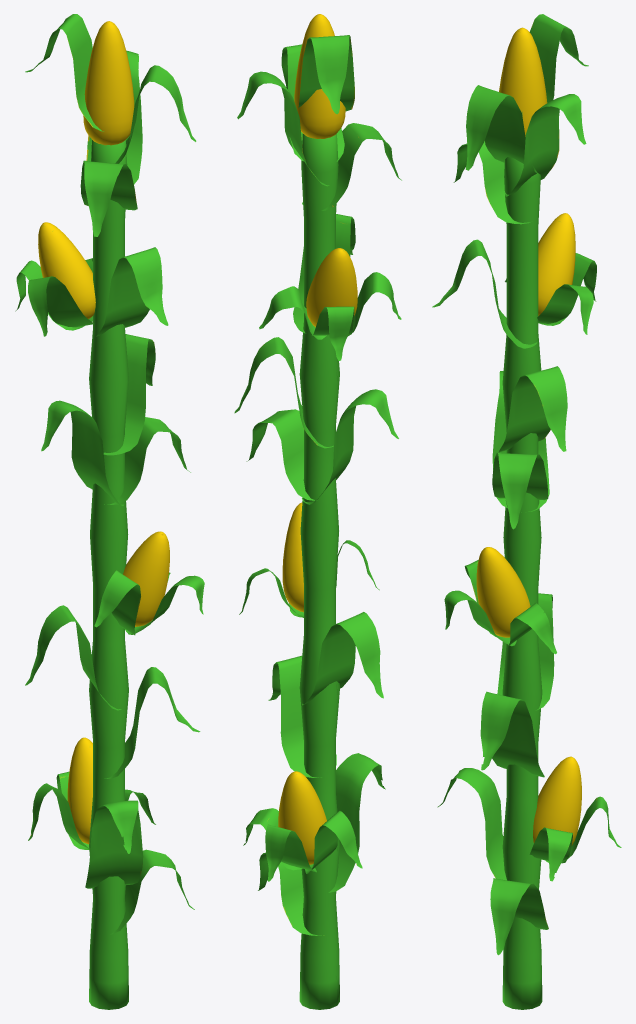
File: Mais.fbx
3 renders of one model, left to right at view 1: azimuth 30°, elevation 25°; view 2: azimuth 150°, elevation 25°; view 3: azimuth 270°, elevation 25°, orthographic.
Visible parts, largest first — view 1: Mais; view 2: Mais; view 3: Mais.
Part boxes in pixels (x1,y1,x2,y2): Mais: (15, 14, 204, 1009); Mais: (234, 14, 401, 1009); Mais: (432, 14, 621, 1009).
Size of the model in its own units: 47.12 by 289 by 51.03.
